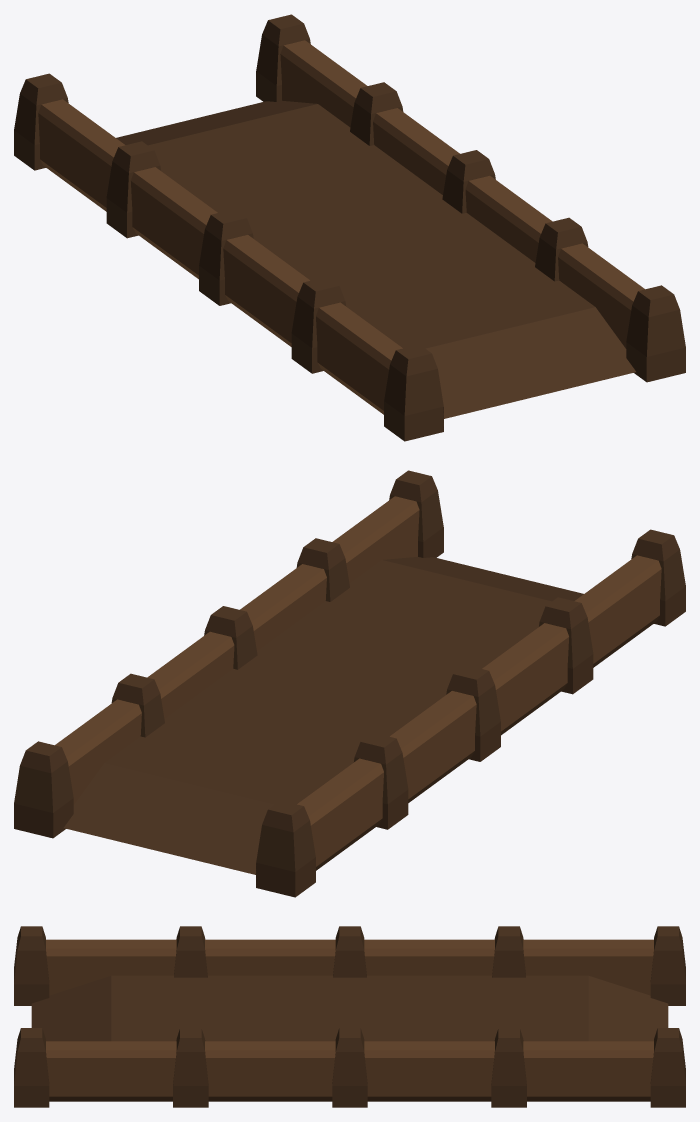
File: Bridge_3_Dark_Brown.fbx
The picture shows the model from 3 angles, top to bottom: view 1: azimuth 30°, elevation 25°; view 2: azimuth 150°, elevation 25°; view 3: azimuth 270°, elevation 25°; orthographic projection. The views are drawn at different scales.
Visible parts, largest first — view 1: Bridge_3_Dark_Brown_Part_1, Bridge_3_Dark_Brown_Part_2, Bridge_3_Dark_Brown_Part_3; view 2: Bridge_3_Dark_Brown_Part_1, Bridge_3_Dark_Brown_Part_2, Bridge_3_Dark_Brown_Part_3; view 3: Bridge_3_Dark_Brown_Part_3, Bridge_3_Dark_Brown_Part_1, Bridge_3_Dark_Brown_Part_2.
Part boxes in pixels (x1,y1,x2,y2): Bridge_3_Dark_Brown_Part_1: [116, 100, 635, 418]; Bridge_3_Dark_Brown_Part_2: [14, 73, 443, 441]; Bridge_3_Dark_Brown_Part_3: [256, 14, 685, 382]; Bridge_3_Dark_Brown_Part_1: [64, 556, 583, 874]; Bridge_3_Dark_Brown_Part_2: [256, 529, 685, 897]; Bridge_3_Dark_Brown_Part_3: [14, 470, 443, 838]; Bridge_3_Dark_Brown_Part_3: [14, 1028, 685, 1107]; Bridge_3_Dark_Brown_Part_1: [31, 975, 668, 1041]; Bridge_3_Dark_Brown_Part_2: [14, 926, 685, 1005].
Bounding box in the file's own units: 395 × 104 × 950.
